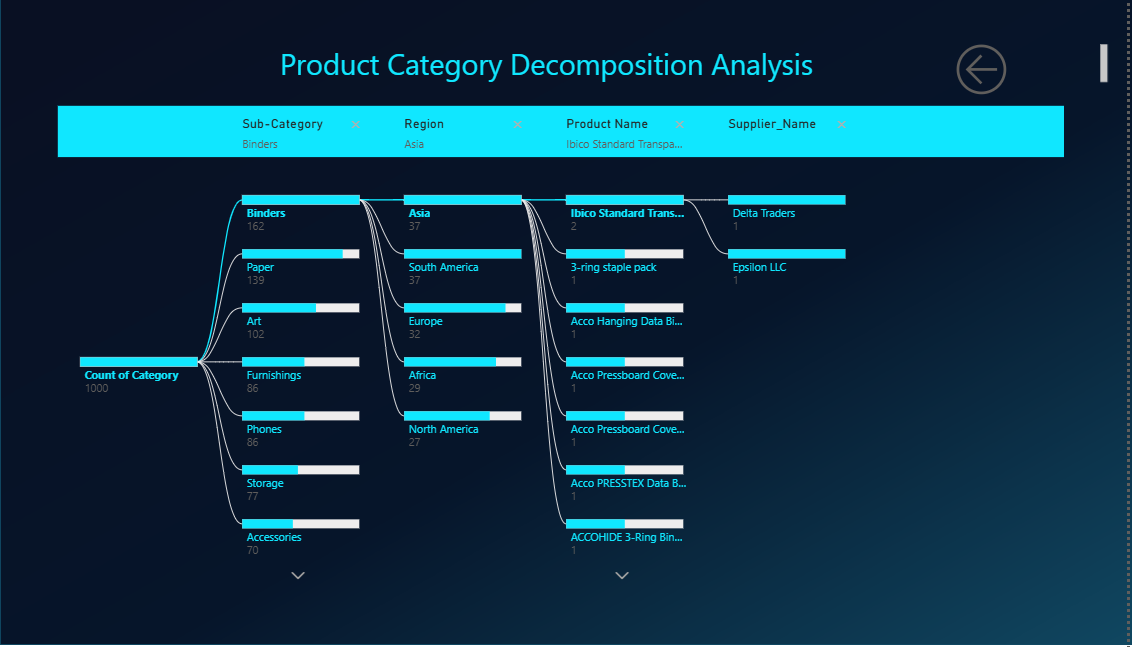

The page's visual inventory and layout, read from the dashboard file:
{"tool":"powerbi","page":{"name":"Decomposition","canvas":[1280,720],"ordinal":4},"visuals":[{"type":"decompositionTreeVisual","fields":{"Analyze":["CountNonNull(Supply Chain.Category)"],"ExplainBy":["Supply Chain.Sub-Category","Supply Chain.Region","Supply Chain.Product Name","Supply Chain.Supplier_Name"]},"box":[86,113.7,1128.4,557],"z":0},{"type":"textbox","box":[14.7,44.2,1248.6,60.9],"z":1000},{"type":"actionButton","box":[1083.6,43.9,130.7,69.9],"z":2000}]}

Visuals, with their boxes in screenshot pixels (x1, y1, x2, y2), scaled from the page's 1280x720 canvas onto the 1132x647 screenshot:
decompositionTreeVisual - CountNonNull(Supply Chain.Category) x Supply Chain.Sub-Category: <region>76, 102, 1074, 603</region>
textbox: <region>13, 40, 1117, 94</region>
actionButton: <region>958, 39, 1074, 102</region>
